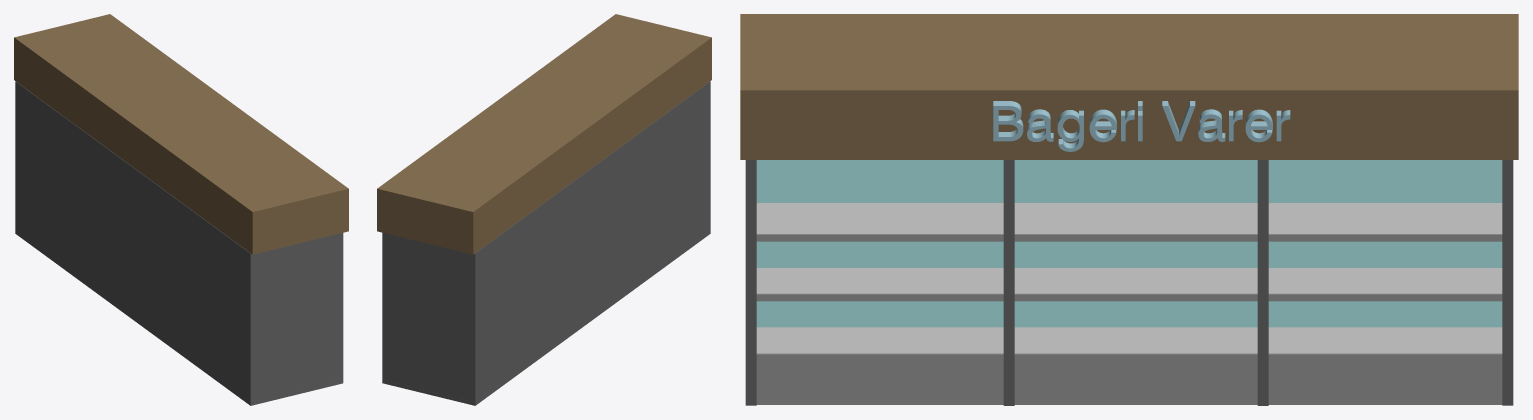
The model's file is bakeoff_skab.gltf.
The picture shows the model from 3 angles, left to right: view 1: azimuth 30°, elevation 25°; view 2: azimuth 150°, elevation 25°; view 3: azimuth 270°, elevation 25°; orthographic projection. The views are drawn at different scales.
Size of the model in its own units: 1.77 by 3.2 by 7.1.
